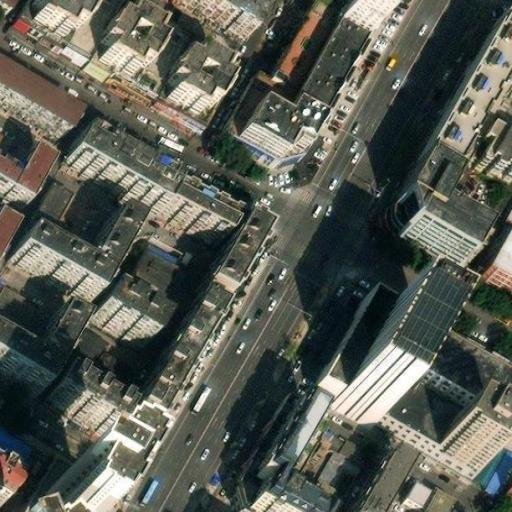building: (62, 0, 243, 117), (245, 10, 378, 154), (68, 127, 233, 235), (142, 285, 230, 414), (10, 211, 134, 299), (345, 291, 437, 406), (320, 276, 397, 383), (422, 317, 512, 408), (250, 398, 314, 484), (386, 366, 463, 436), (212, 206, 276, 289), (32, 366, 113, 427), (31, 286, 92, 366), (261, 0, 322, 80), (64, 316, 128, 388), (395, 140, 451, 220), (411, 190, 482, 251), (51, 446, 116, 512), (123, 238, 191, 301), (91, 290, 159, 347), (164, 47, 222, 108), (441, 404, 504, 460), (97, 9, 155, 69), (22, 452, 68, 512), (347, 456, 396, 512), (29, 173, 76, 228), (245, 478, 320, 512), (477, 126, 512, 175), (218, 0, 261, 37), (482, 239, 512, 292), (421, 481, 456, 512), (407, 471, 438, 502)
